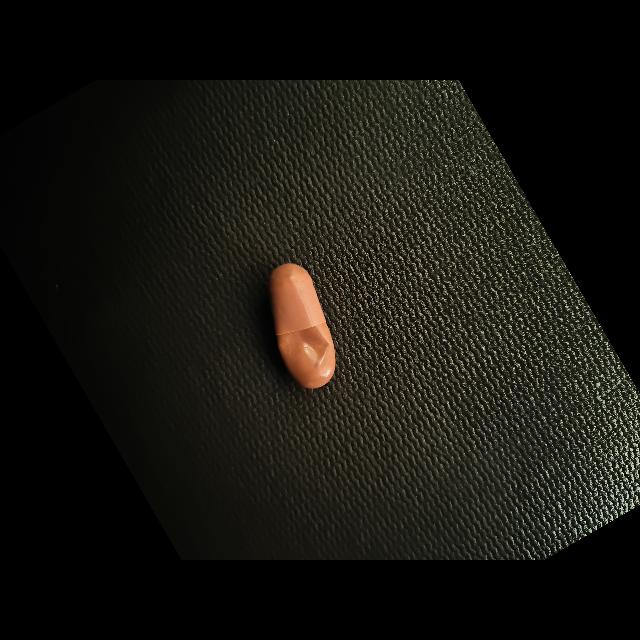Defective Capsule: (278, 326, 329, 372)
